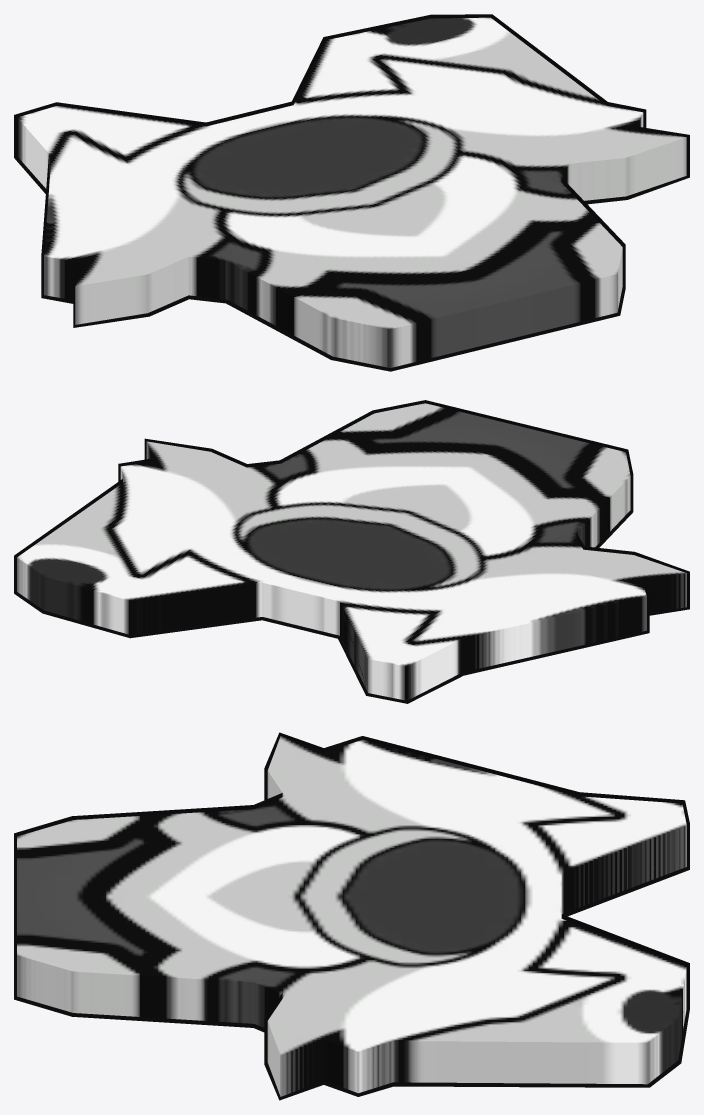
File: Item_Apparel_ArmorCataphractPhoenix_Things_Pawn_Humanlike_Apparel_PhoenixArmor_PhoenixArmor_Male.glb
The picture shows the model from 3 angles, top to bottom: view 1: azimuth 30°, elevation 25°; view 2: azimuth 150°, elevation 25°; view 3: azimuth 270°, elevation 25°; orthographic projection. The views are drawn at different scales.
Visible parts, largest first — view 1: Body, Outline; view 2: Body, Outline; view 3: Body, Outline.
Boxes of the visible parts, box(x1,y1,x2,y2) form: Body: box(17, 17, 686, 367); Outline: box(14, 14, 689, 371); Body: box(17, 403, 686, 700); Outline: box(14, 400, 689, 703); Body: box(17, 736, 686, 1096); Outline: box(14, 732, 689, 1100).
Bounding box in the file's own units: 1.38 × 0.0964 × 1.22.
Materials: 2 (1 with a texture image).
